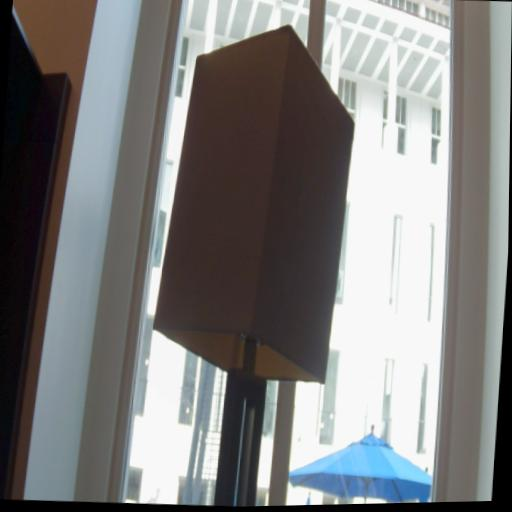lamp: (141, 15, 363, 509)
